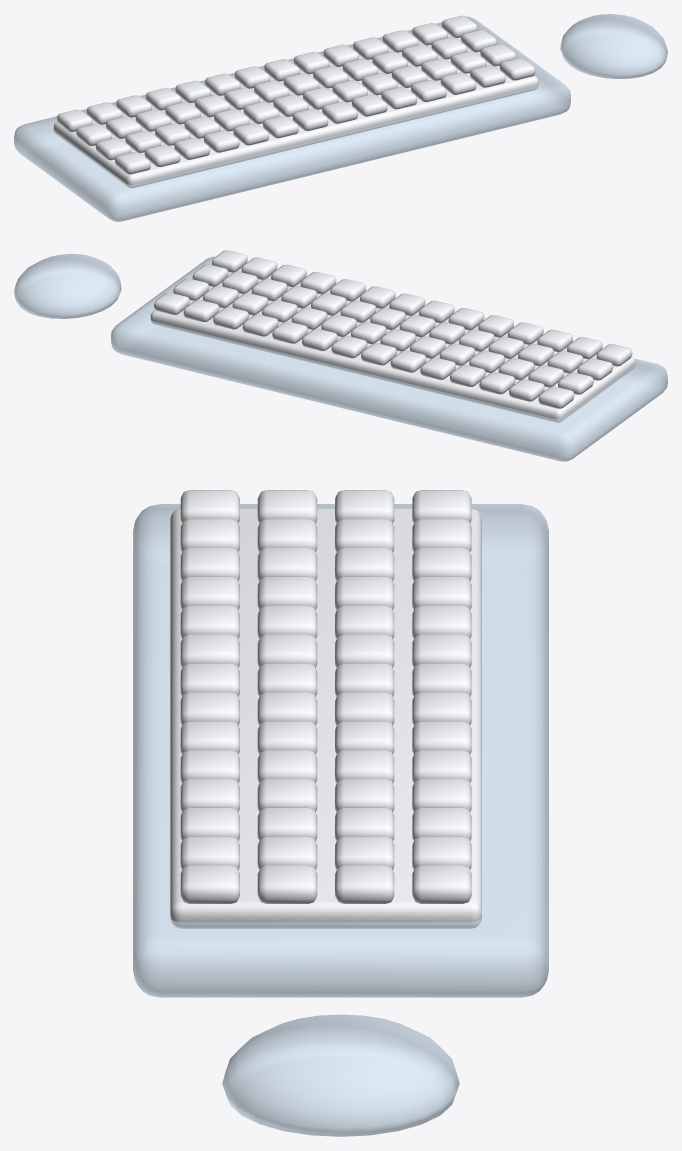
Rendered from keyboard_mouse.glb.
The picture shows the model from 3 angles, top to bottom: view 1: azimuth 30°, elevation 25°; view 2: azimuth 150°, elevation 25°; view 3: azimuth 270°, elevation 25°; orthographic projection. The views are drawn at different scales.
Parts seen in each view (by area): view 1: KeyboardMouse; view 2: KeyboardMouse; view 3: KeyboardMouse.
Part boxes in pixels (x1=…): KeyboardMouse: x1=14, y1=14, x2=667, y2=221; KeyboardMouse: x1=14, y1=250, x2=667, y2=461; KeyboardMouse: x1=133, y1=490, x2=548, y2=1136.
Bounding box in the file's own units: 0.465 × 0.035 × 0.14.
